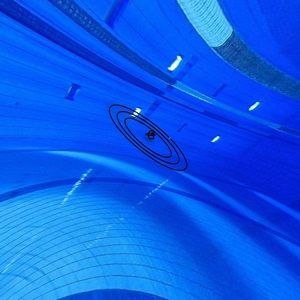circle: (103, 101, 201, 178)
submarine: (143, 128, 159, 144)
